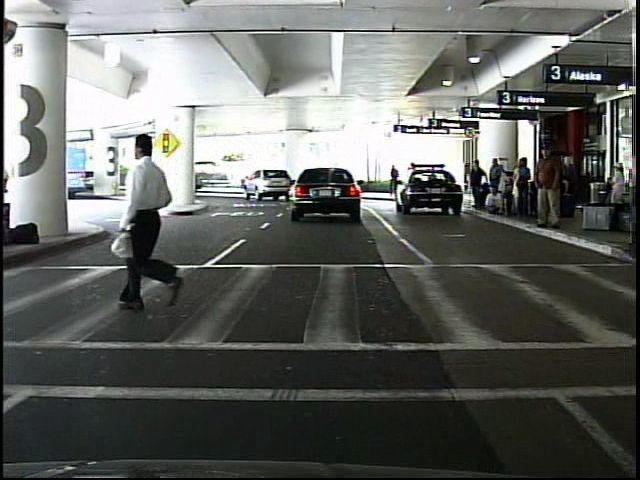person: (96, 127, 210, 311), (530, 142, 566, 233), (468, 158, 487, 210), (387, 164, 401, 197), (133, 164, 138, 189)
